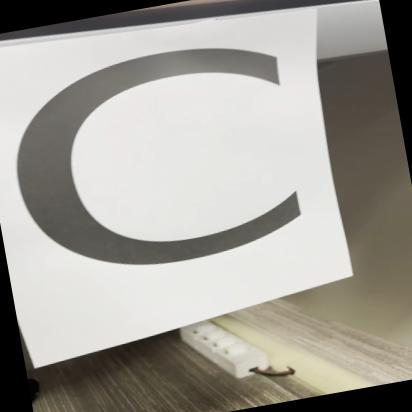seat: (0, 0, 368, 354)
